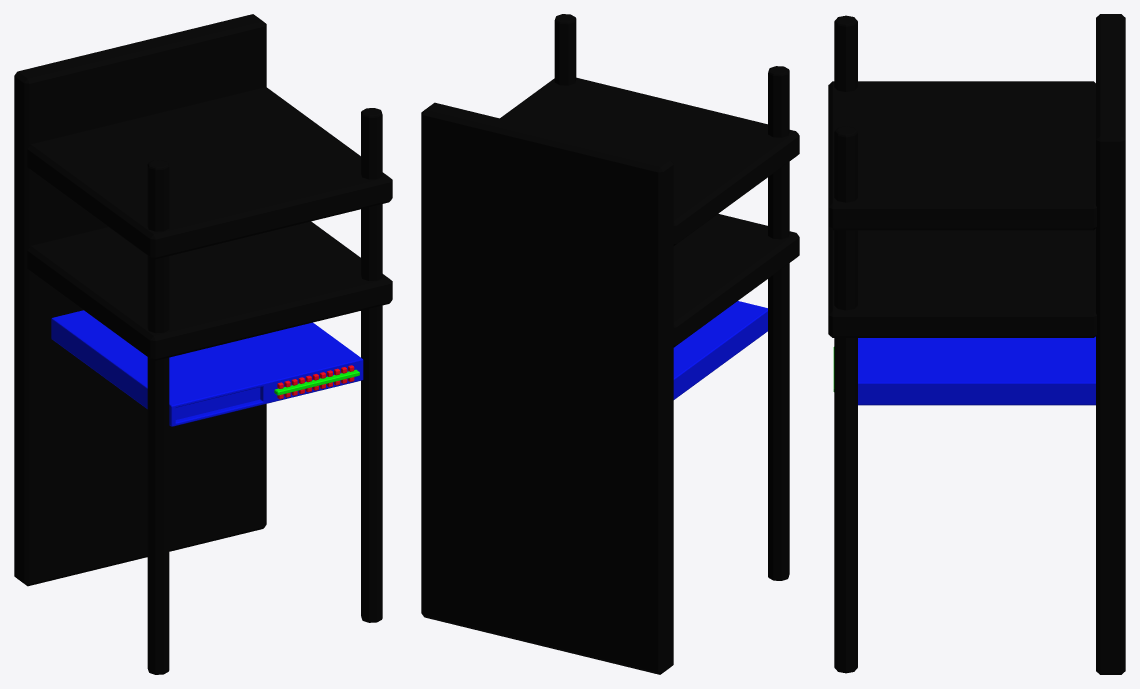
Rendered from Server_Rack.fbx.
3 views of the same model, side by side, from view 1: azimuth 30°, elevation 25°; view 2: azimuth 150°, elevation 25°; view 3: azimuth 270°, elevation 25° (orthographic). The views are drawn at different scales.
Visible parts, largest first — view 1: Server_rack_poly; view 2: Server_rack_poly; view 3: Server_rack_poly.
Part boxes in pixels (bbox=[...]): Server_rack_poly: bbox=[14, 14, 392, 674]; Server_rack_poly: bbox=[421, 14, 799, 674]; Server_rack_poly: bbox=[828, 14, 1125, 674].
Size of the model in its own units: 100 by 200 by 100.
